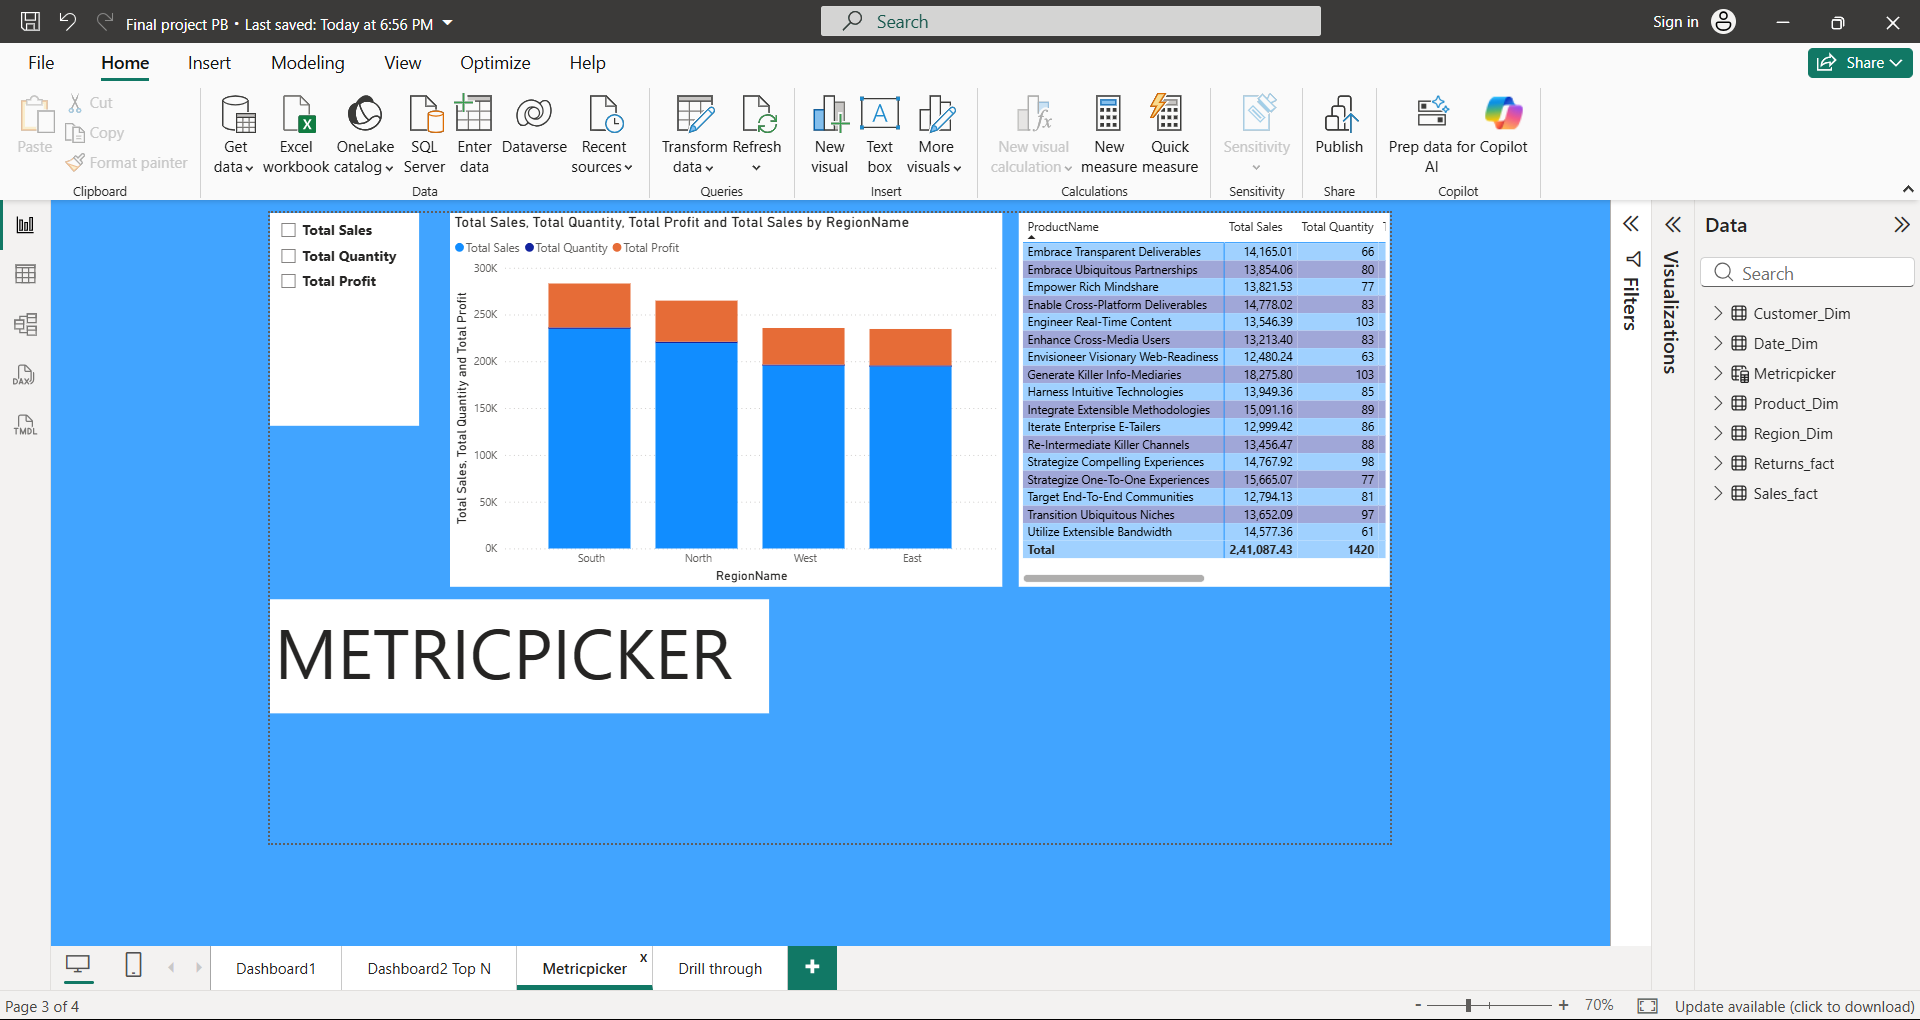

The dashboard page shown, as its layout file describes it:
{"tool":"powerbi","page":{"name":"Metricpicker","canvas":[1280,720],"ordinal":2},"visuals":[{"type":"slicer","fields":{"Values":["Metricpicker.Metricpicker"]},"box":[0,0,170,242.9],"z":0},{"type":"columnChart","fields":{"Y":["Customer_Dim.Total Sales","Customer_Dim.Total Quantity","Customer_Dim.Total Profit","Customer_Dim.Total Sales"],"Category":["Region_Dim.RegionName"]},"box":[205.7,0,631.4,427.1],"z":1000},{"type":"pivotTable","fields":{"Values":["Customer_Dim.Total Sales","Customer_Dim.Total Quantity","Customer_Dim.Total Profit","Customer_Dim.Top Region Name"],"Rows":["Product_Dim.ProductName"]},"box":[855.7,0,424.3,427.1],"z":2000},{"type":"textbox","box":[0,441.4,570,130],"z":3000}]}

Visuals, with their boxes on the page's 1280x720 design canvas (x1, y1, x2, y2). These are canvas units, not pixel positions in the 1920x1020 screenshot, which may show the page scaled, cropped or inside an application window:
slicer - Metricpicker.Metricpicker: [0,0,170,243]
columnChart - Customer_Dim.Total Sales x Customer_Dim.Total Quantity: [206,0,837,427]
pivotTable - Customer_Dim.Total Sales x Customer_Dim.Total Quantity: [856,0,1280,427]
textbox: [0,441,570,571]
